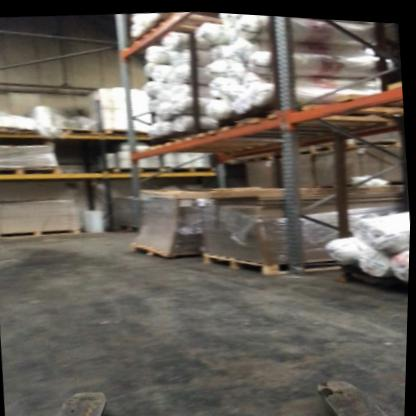vertical_damage: (290, 248, 315, 277)
